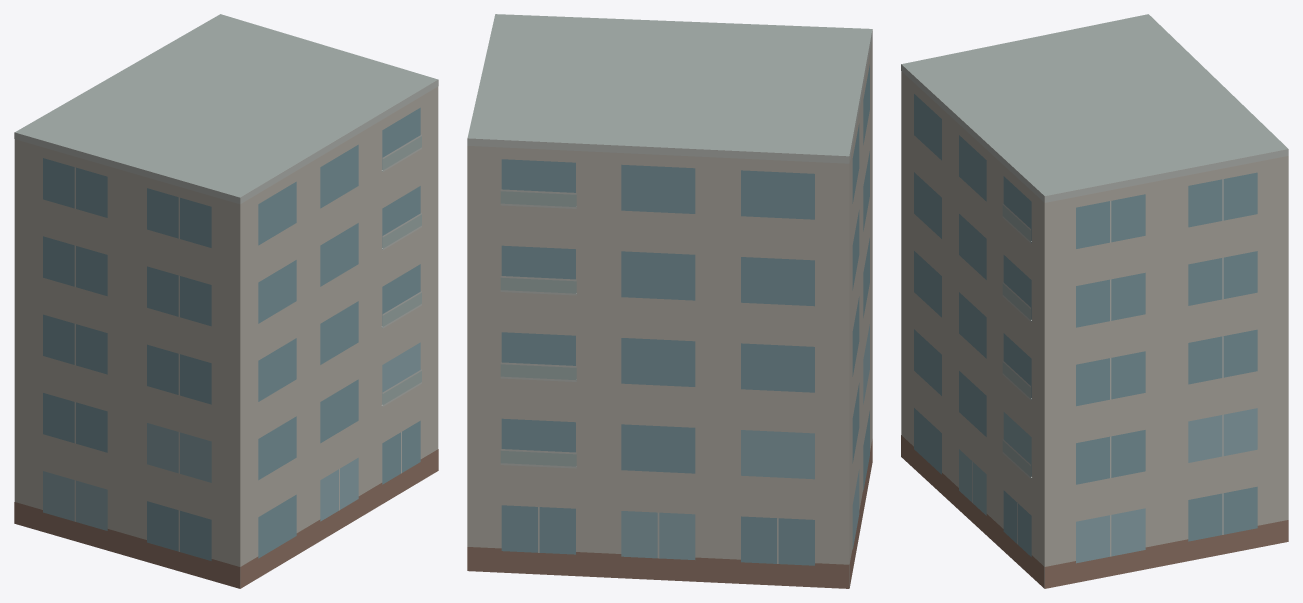
The model's file is survey-upis-33023759.glb.
3 renders of one model, left to right at view 1: azimuth 30°, elevation 25°; view 2: azimuth 150°, elevation 25°; view 3: azimuth 270°, elevation 25°, orthographic. The views are drawn at different scales.
Visible parts, largest first — view 1: survey-upis-33023759.tmp; view 2: survey-upis-33023759.tmp; view 3: survey-upis-33023759.tmp.
Boxes of the visible parts, x1=… form: survey-upis-33023759.tmp: x1=14, y1=14, x2=438, y2=588; survey-upis-33023759.tmp: x1=467, y1=14, x2=872, y2=588; survey-upis-33023759.tmp: x1=901, y1=14, x2=1288, y2=588.
Bounding box in the file's own units: 14.14 × 14.2 × 12.71.
